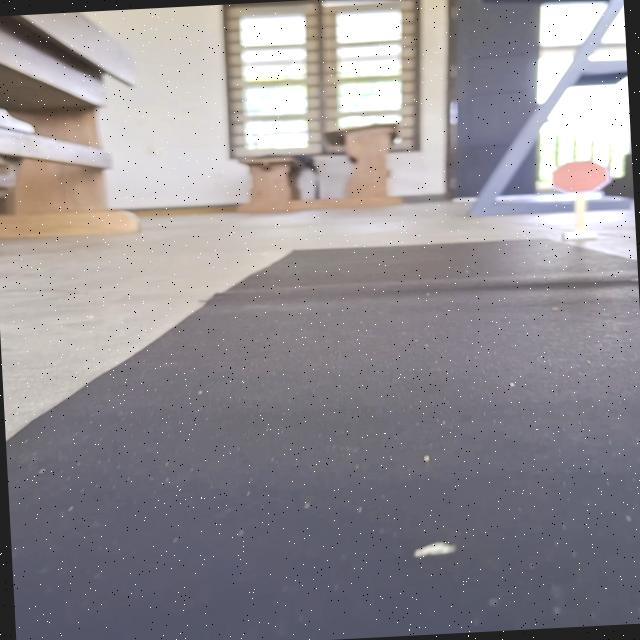Stop: (546, 157, 614, 195)
